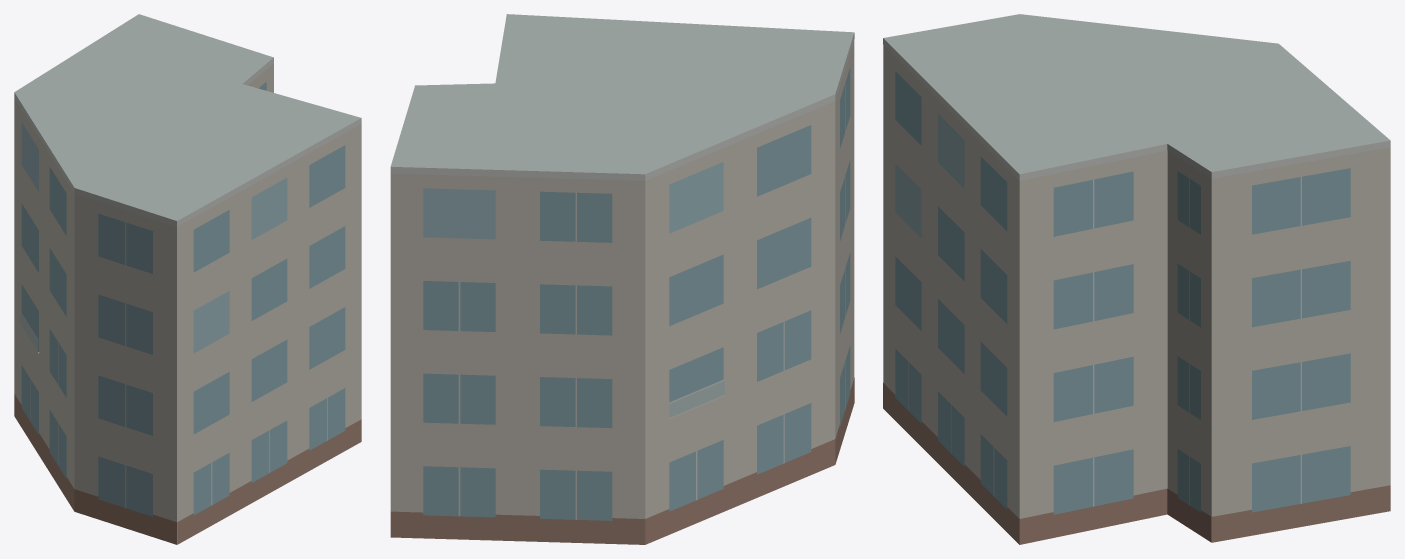
The model's file is survey-upis-32900641.glb.
The picture shows the model from 3 angles, left to right: view 1: azimuth 30°, elevation 25°; view 2: azimuth 150°, elevation 25°; view 3: azimuth 270°, elevation 25°; orthographic projection. The views are drawn at different scales.
Visible parts, largest first — view 1: survey-upis-32900641.tmp; view 2: survey-upis-32900641.tmp; view 3: survey-upis-32900641.tmp.
Part boxes in pixels (x1,y1,x2,y2): survey-upis-32900641.tmp: [14, 14, 361, 544]; survey-upis-32900641.tmp: [390, 14, 854, 544]; survey-upis-32900641.tmp: [883, 14, 1390, 544].
Size of the model in its own units: 12.64 by 13.61 by 16.9.
